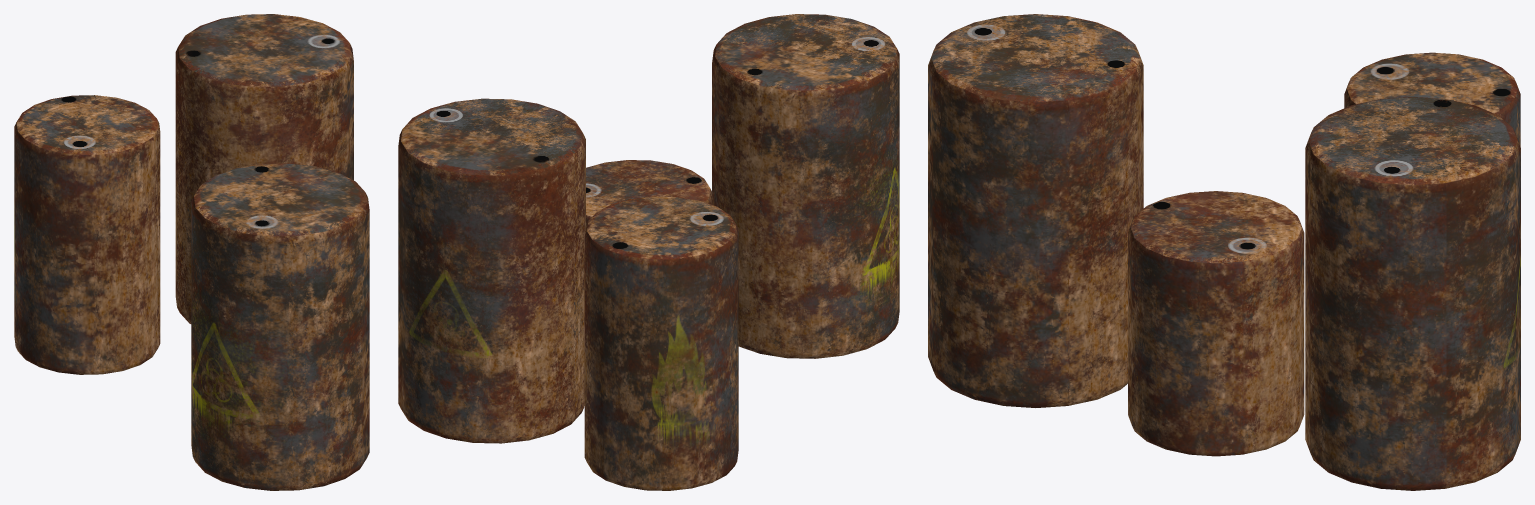
The model's file is barriles.glb.
3 renders of one model, left to right at view 1: azimuth 30°, elevation 25°; view 2: azimuth 150°, elevation 25°; view 3: azimuth 270°, elevation 25°, orthographic. The views are drawn at different scales.
Parts seen in each view (by area): view 1: Barrels; view 2: Barrels; view 3: Barrels.
Part boxes in pixels (bbox=[...]): Barrels: bbox=[14, 14, 369, 490]; Barrels: bbox=[398, 14, 899, 490]; Barrels: bbox=[928, 14, 1520, 490].
Size of the model in its own units: 1.32 by 1.07 by 1.82.
Materials: 1 (1 with a texture image).
